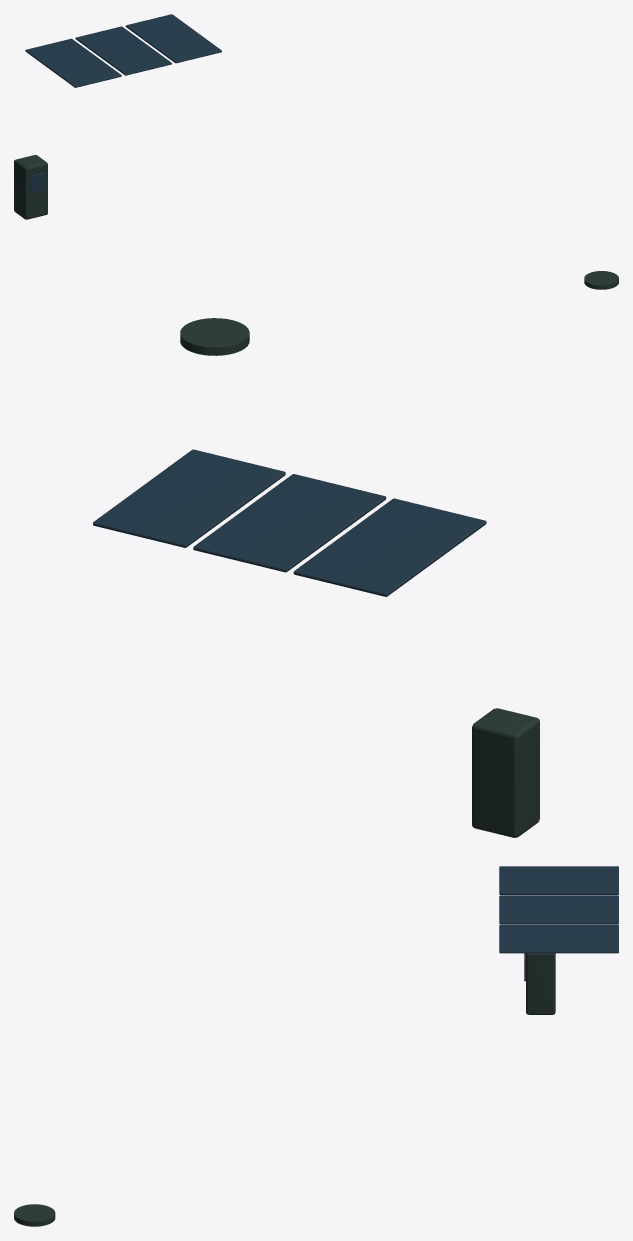
File: offgrid_tech.glb
3 views of the same model, one above another, from view 1: azimuth 30°, elevation 25°; view 2: azimuth 150°, elevation 25°; view 3: azimuth 270°, elevation 25° (orthographic). The views are drawn at different scales.
Parts seen in each view (by area): view 1: Off-grid panel 3 kWp, Off-grid panel 3 kWp.002, Off-grid panel 3 kWp.001, Victron Energy bateriový kabinet, Retenční nádrž – servisní poklop; view 2: Off-grid panel 3 kWp, Off-grid panel 3 kWp.001, Off-grid panel 3 kWp.002, Victron Energy bateriový kabinet, Retenční nádrž – servisní poklop; view 3: Off-grid panel 3 kWp.002, Off-grid panel 3 kWp.001, Off-grid panel 3 kWp, Victron Energy bateriový kabinet, Retenční nádrž – servisní poklop.
Part boxes in pixels (x1=…): Off-grid panel 3 kWp: x1=25, y1=38, x2=121, y2=87; Off-grid panel 3 kWp.002: x1=125, y1=14, x2=221, y2=63; Off-grid panel 3 kWp.001: x1=75, y1=26, x2=171, y2=75; Victron Energy bateriový kabinet: x1=14, y1=155, x2=47, y2=219; Retenční nádrž – servisní poklop: x1=584, y1=271, x2=618, y2=289; Off-grid panel 3 kWp: x1=293, y1=498, x2=486, y2=596; Off-grid panel 3 kWp.001: x1=193, y1=474, x2=386, y2=572; Off-grid panel 3 kWp.002: x1=93, y1=449, x2=285, y2=547; Victron Energy bateriový kabinet: x1=472, y1=708, x2=539, y2=837; Retenční nádrž – servisní poklop: x1=180, y1=318, x2=249, y2=355; Off-grid panel 3 kWp.002: x1=499, y1=924, x2=618, y2=953; Off-grid panel 3 kWp.001: x1=499, y1=895, x2=618, y2=924; Off-grid panel 3 kWp: x1=499, y1=866, x2=618, y2=894; Victron Energy bateriový kabinet: x1=526, y1=953, x2=555, y2=1014; Retenční nádrž – servisní poklop: x1=14, y1=1204, x2=55, y2=1226.
Bounding box in the file's own units: 11.5 × 3.83 × 13.15.
